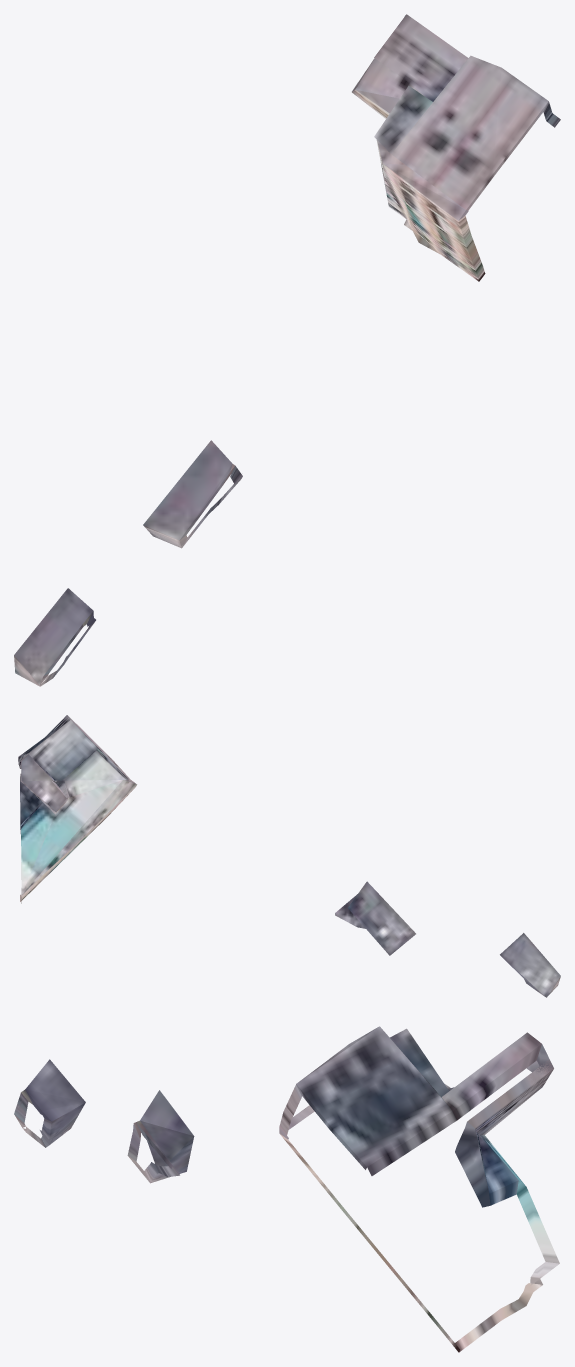
The picture shows the model from 3 angles, top to bottom: view 1: azimuth 30°, elevation 25°; view 2: azimuth 150°, elevation 25°; view 3: azimuth 270°, elevation 25°; orthographic projection. The views are drawn at different scales.
Bounding box in the file's own units: 66.08 × 34.99 × 39.53.
1 material, 1 textured.
